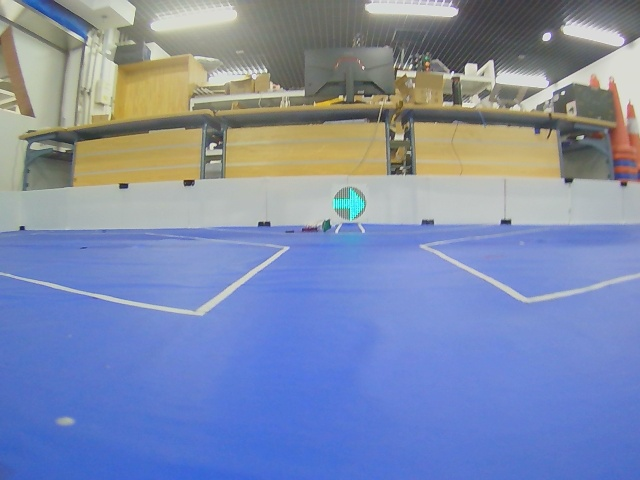right_green: (333, 187, 366, 221)
